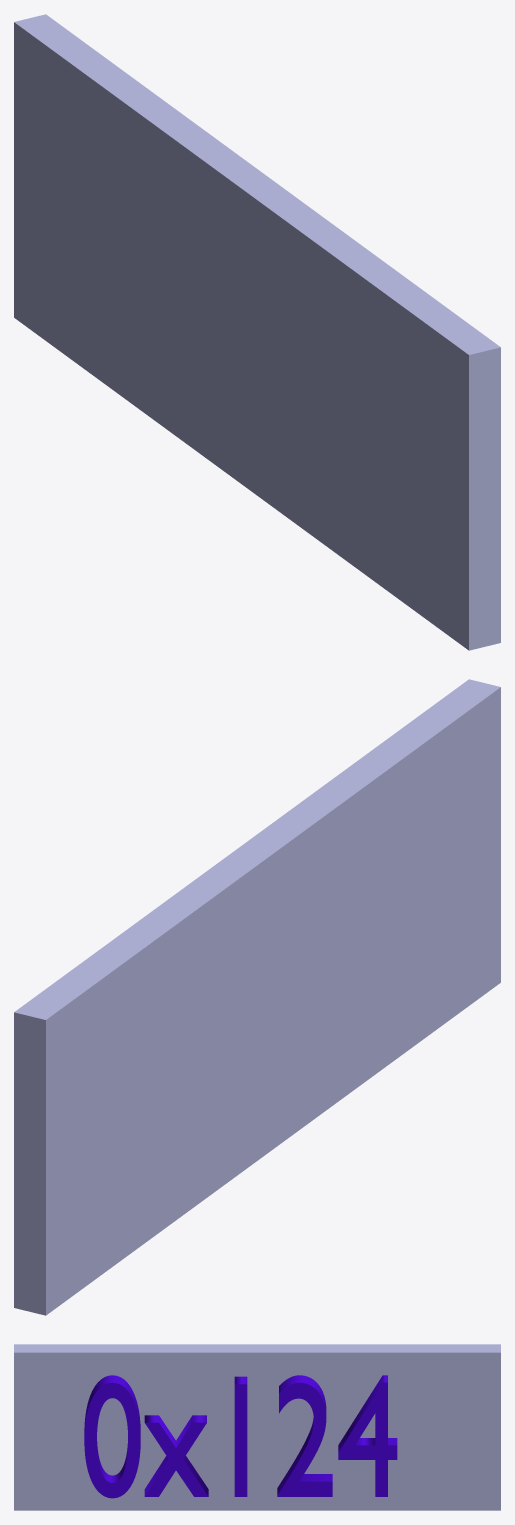
The picture shows the model from 3 angles, top to bottom: view 1: azimuth 30°, elevation 25°; view 2: azimuth 150°, elevation 25°; view 3: azimuth 270°, elevation 25°; orthographic projection. The views are drawn at different scales.
Parts seen in each view (by area): view 1: Cube; view 2: Cube; view 3: Cube, Text.
Boxes of the visible parts, bbox=[...] form: Cube: bbox=[14, 14, 500, 650]; Cube: bbox=[14, 679, 500, 1315]; Cube: bbox=[14, 1344, 500, 1510]; Text: bbox=[84, 1375, 397, 1498].
Size of the model in its own units: 2.65 by 12.33 by 34.39.
